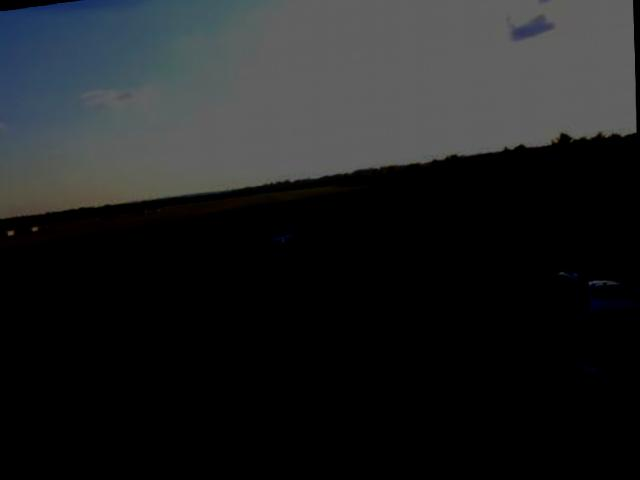uav: (567, 365, 609, 392), (268, 236, 302, 253)
